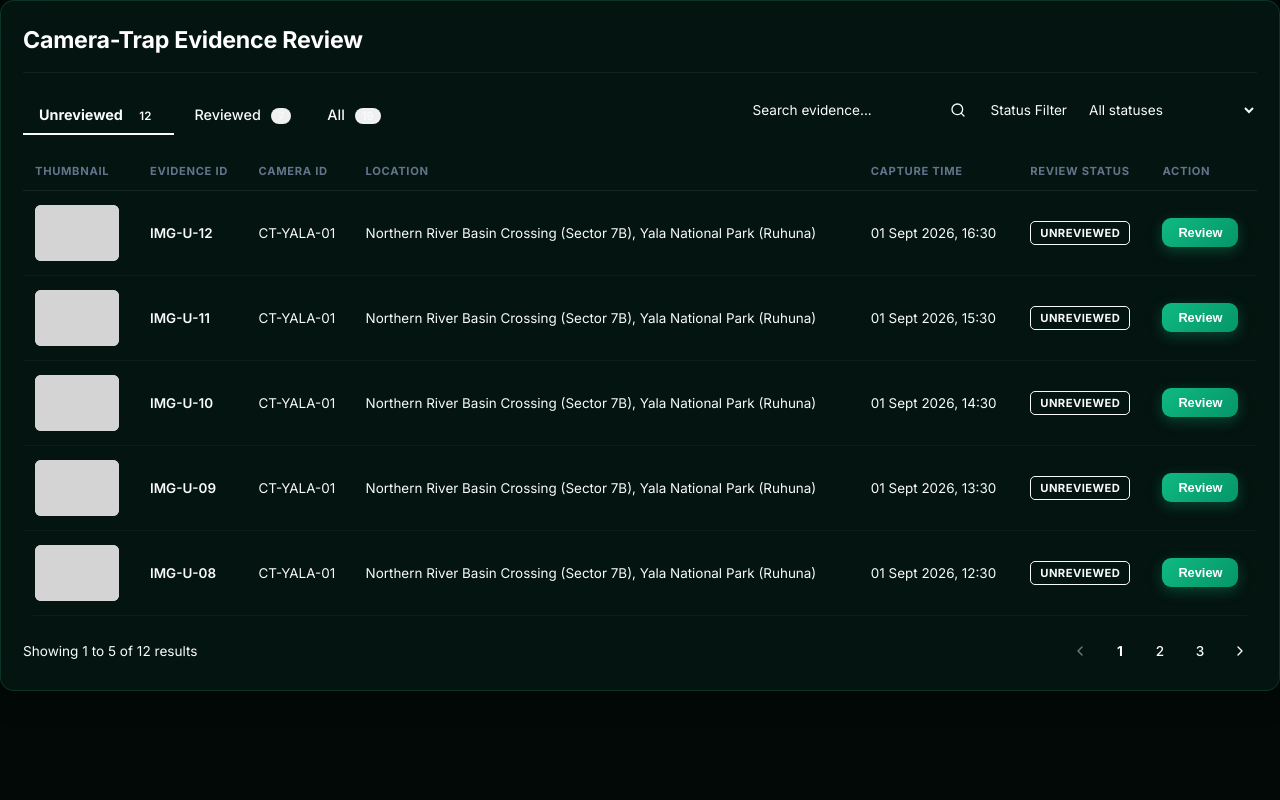
Scenario: EvidenceReviewQueue - pagination › changing tab resets to page 1
The image size is (1280, 800).
Click the button named "Page 2".
click(1160, 651)  # box left=1143, top=634, right=1177, bottom=668
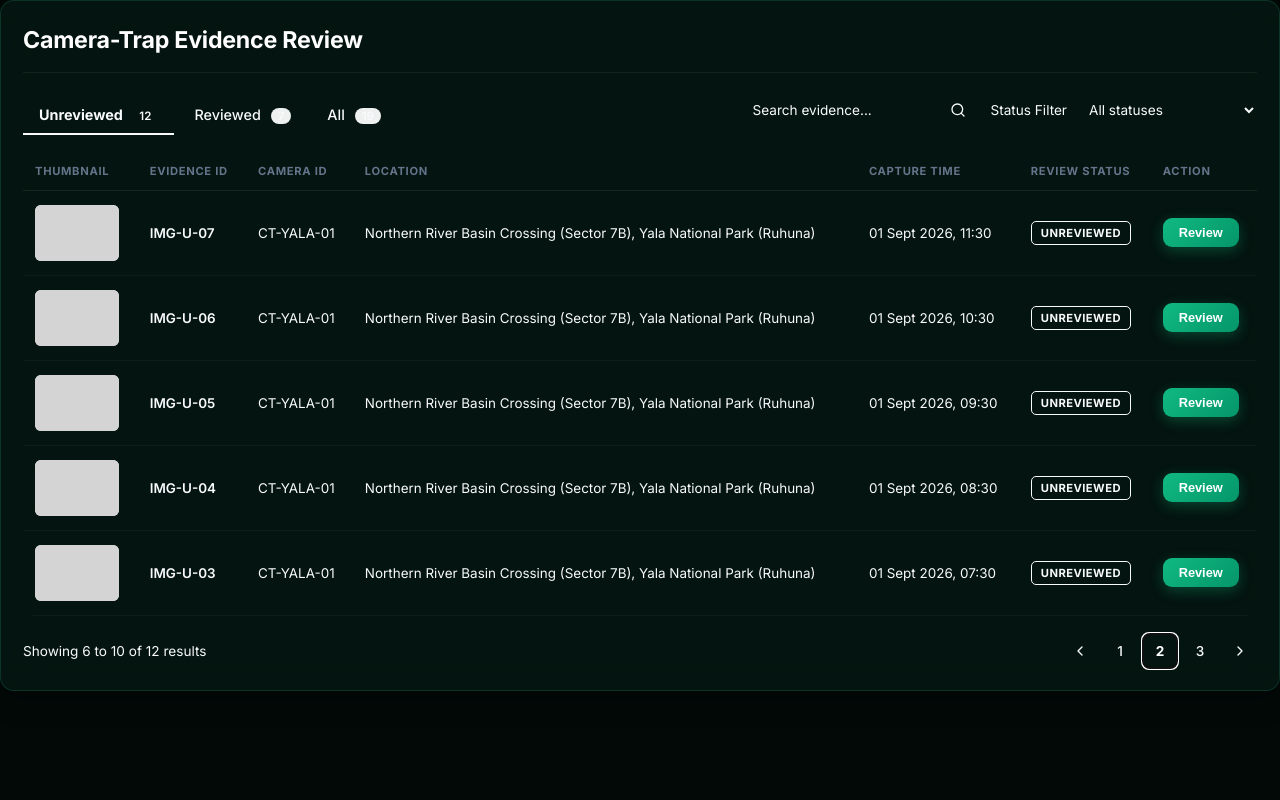
Click the tab "All 19".
click(354, 115)  # box left=311, top=96, right=397, bottom=135
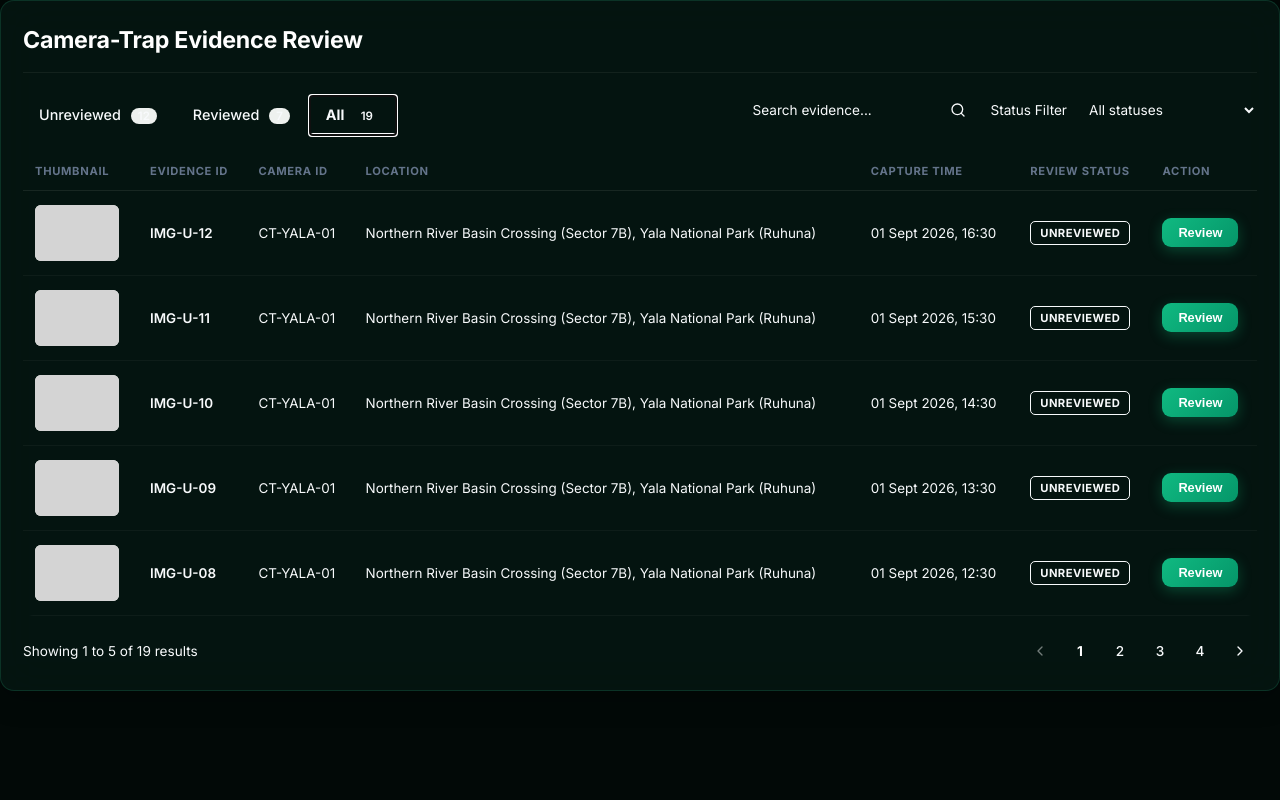
expect the text "Showing 1 to 5 of 19 results" is shown: met, box left=23, top=641, right=198, bottom=661
